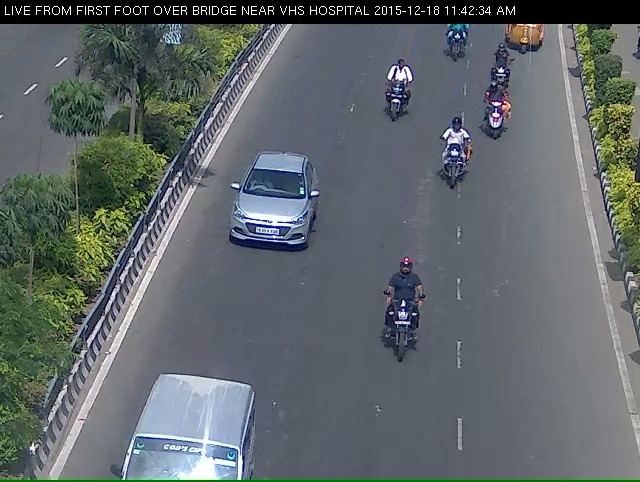Auto: (505, 16, 552, 65)
Car: (108, 393, 258, 482), (225, 158, 320, 277)
Person: (370, 281, 434, 394), (436, 126, 466, 202), (377, 62, 408, 127), (442, 25, 478, 77), (482, 96, 513, 151)
